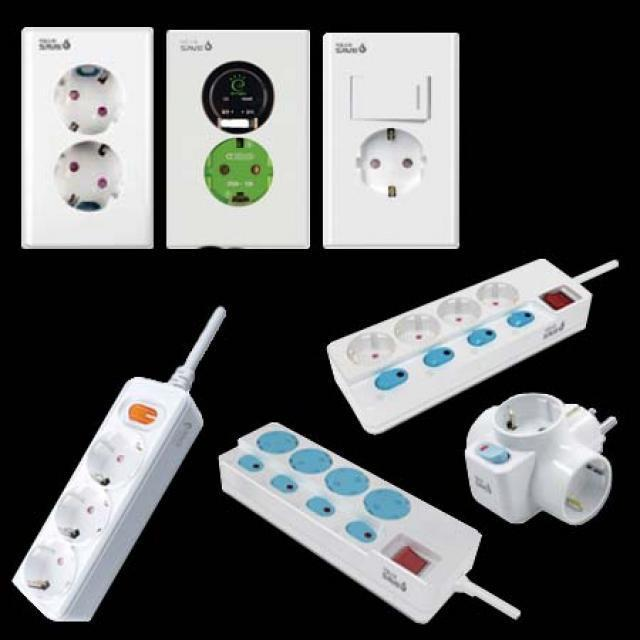typeb: (13, 290, 214, 628), (14, 19, 163, 280)
